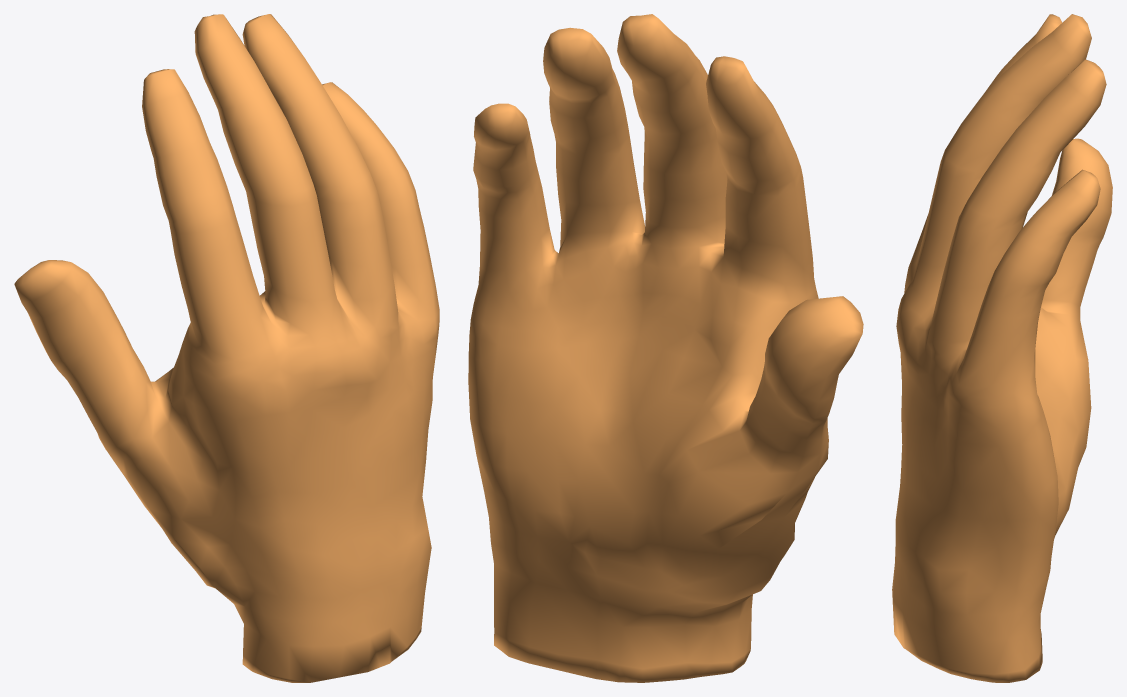
The model's file is rechtsOffen.obj.
3 renders of one model, left to right at view 1: azimuth 30°, elevation 25°; view 2: azimuth 150°, elevation 25°; view 3: azimuth 270°, elevation 25°, orthographic. The views are drawn at different scales.
Visible parts, largest first — view 1: rechtsOffen; view 2: rechtsOffen; view 3: rechtsOffen.
Part boxes in pixels (bbox=[...]): rechtsOffen: bbox=[14, 14, 439, 682]; rechtsOffen: bbox=[468, 14, 863, 682]; rechtsOffen: bbox=[892, 14, 1112, 682].
Size of the model in its own units: 0.2354 by 0.3656 by 0.1241.
